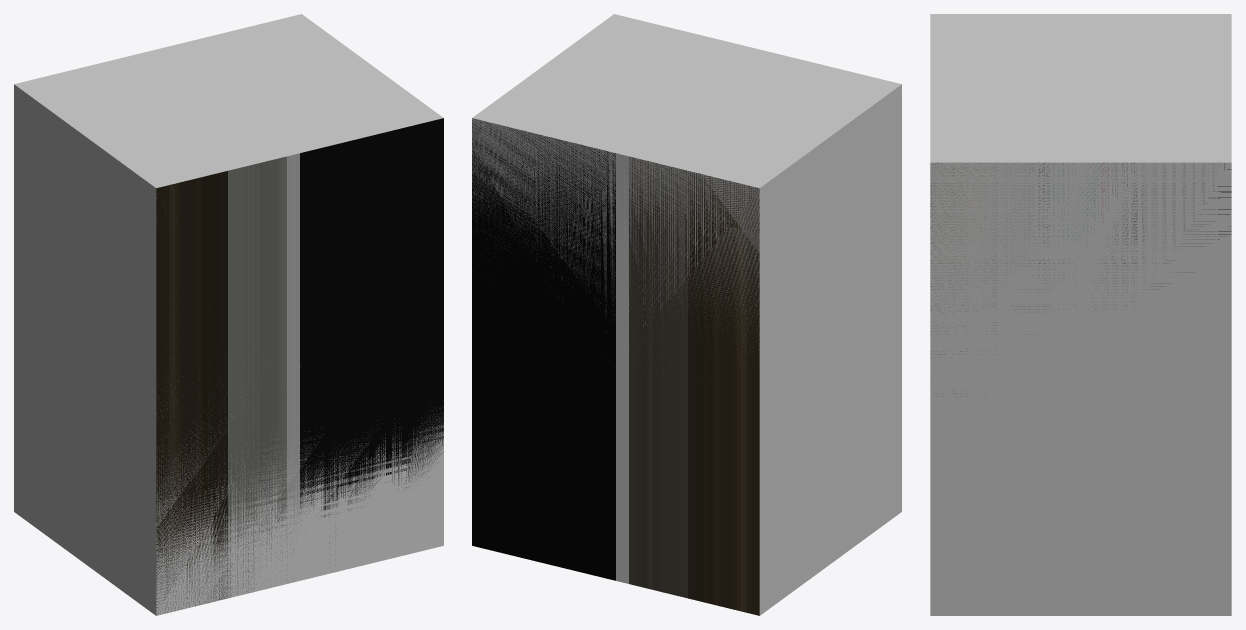
Rendered from electrical_power_box.DAE.
3 renders of one model, left to right at view 1: azimuth 30°, elevation 25°; view 2: azimuth 150°, elevation 25°; view 3: azimuth 270°, elevation 25°, orthographic. The views are drawn at different scales.
Visible parts, largest first — view 1: bounds, colbox-1, electrical_box100; view 2: bounds, colbox-1; view 3: bounds, colbox-1, electrical_box100.
Part boxes in pixels (x1=…): bounds: x1=14, y1=14, x2=443, y2=615; colbox-1: x1=156, y1=118, x2=443, y2=604; electrical_box100: x1=156, y1=205, x2=337, y2=614; bounds: x1=472, y1=14, x2=901, y2=615; colbox-1: x1=472, y1=118, x2=759, y2=615; bounds: x1=930, y1=14, x2=1231, y2=615; colbox-1: x1=930, y1=162, x2=1231, y2=309; electrical_box100: x1=930, y1=162, x2=1050, y2=396.
Size of the model in its own units: 52.99 by 45.36 by 75.27.
